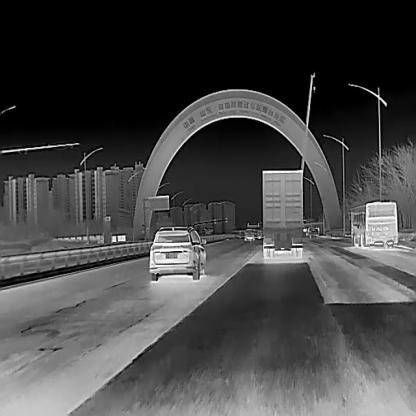bus: (352, 200, 397, 247)
car: (147, 225, 206, 281), (243, 228, 254, 242), (308, 228, 319, 237)
truck: (262, 169, 302, 257)
